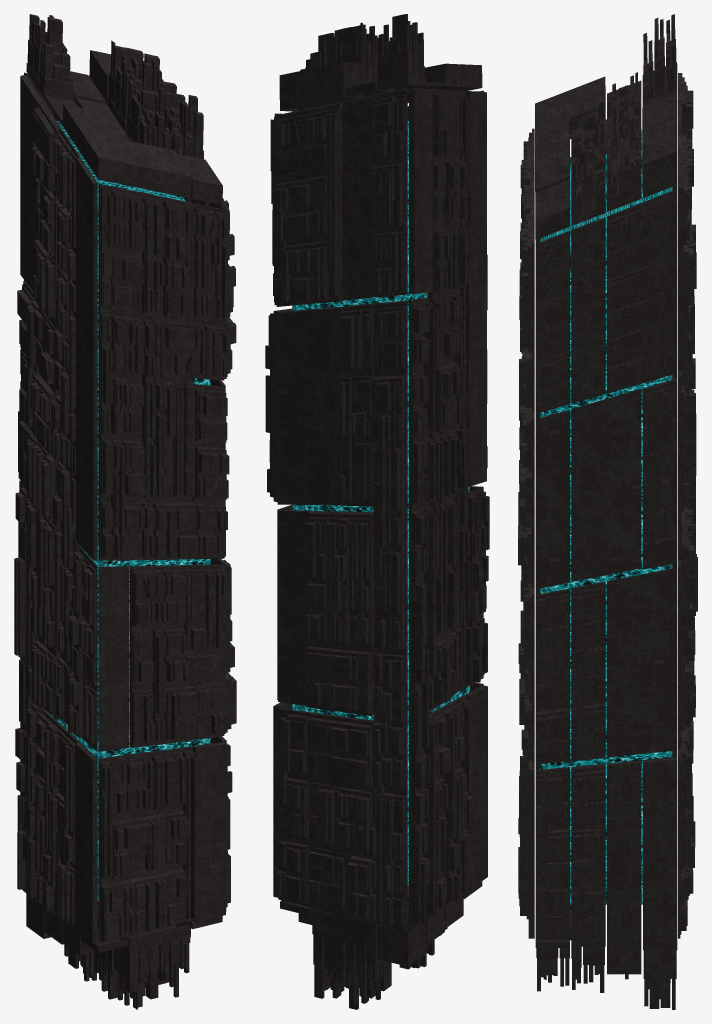
File: alpha_tower.gltf
The picture shows the model from 3 angles, left to right: view 1: azimuth 30°, elevation 25°; view 2: azimuth 150°, elevation 25°; view 3: azimuth 270°, elevation 25°; orthographic projection. The views are drawn at different scales.
Visible parts, largest first — view 1: PILLAR_ALPHA_0; view 2: PILLAR_ALPHA_0; view 3: PILLAR_ALPHA_0.
Boxes of the visible parts, x1,y1,x2,y2 form: PILLAR_ALPHA_0: [14, 14, 236, 1009]; PILLAR_ALPHA_0: [265, 14, 489, 1009]; PILLAR_ALPHA_0: [518, 14, 697, 1009].
Bounding box in the file's own units: 2.94 × 17.23 × 2.93.
Materials: 2 (2 with a texture image).
